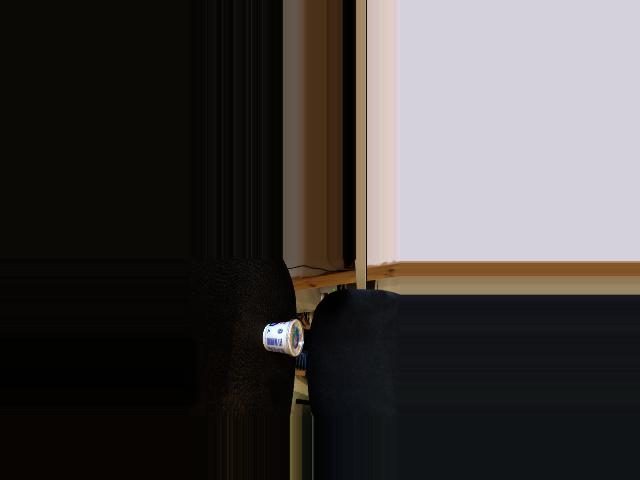cotage: (258, 320, 305, 355)
